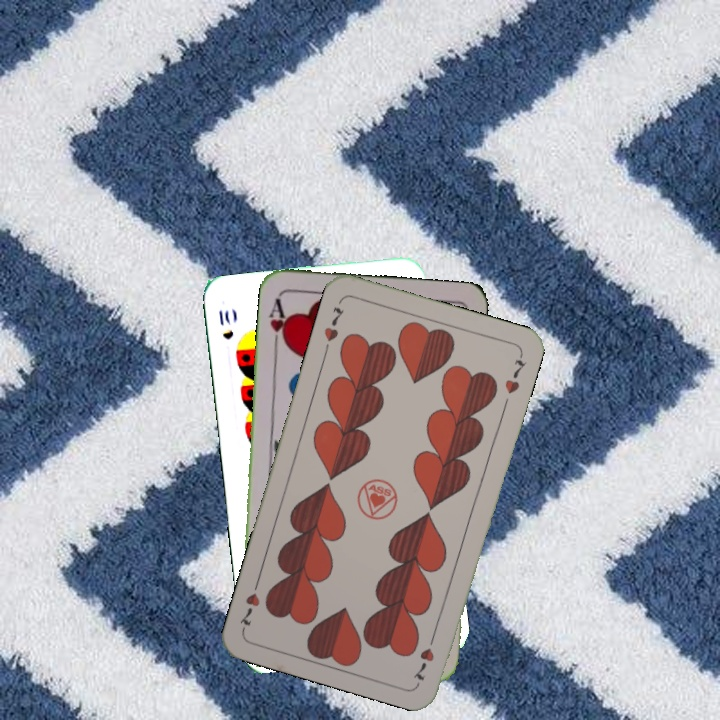H7: (410, 628, 439, 686), (320, 303, 347, 355)
HA: (264, 294, 292, 352)
S10: (215, 306, 236, 342)
